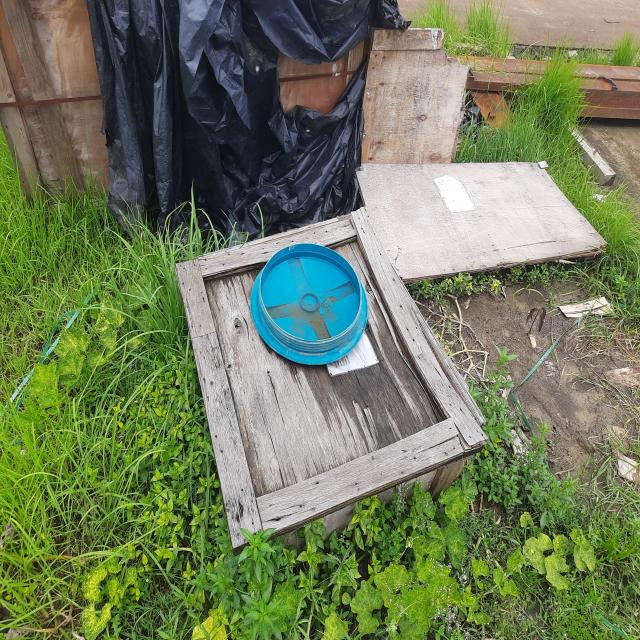Breeding Place: (0, 199, 640, 640), (177, 206, 498, 554), (82, 0, 367, 229), (444, 33, 640, 154), (250, 234, 370, 376)
